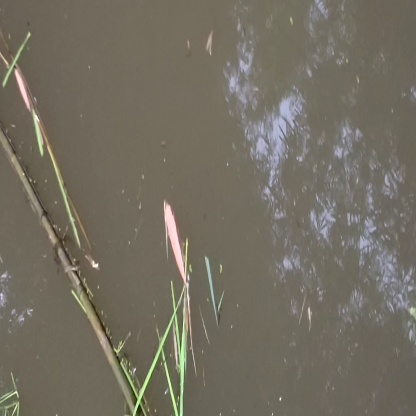branch: (3, 130, 149, 416)
